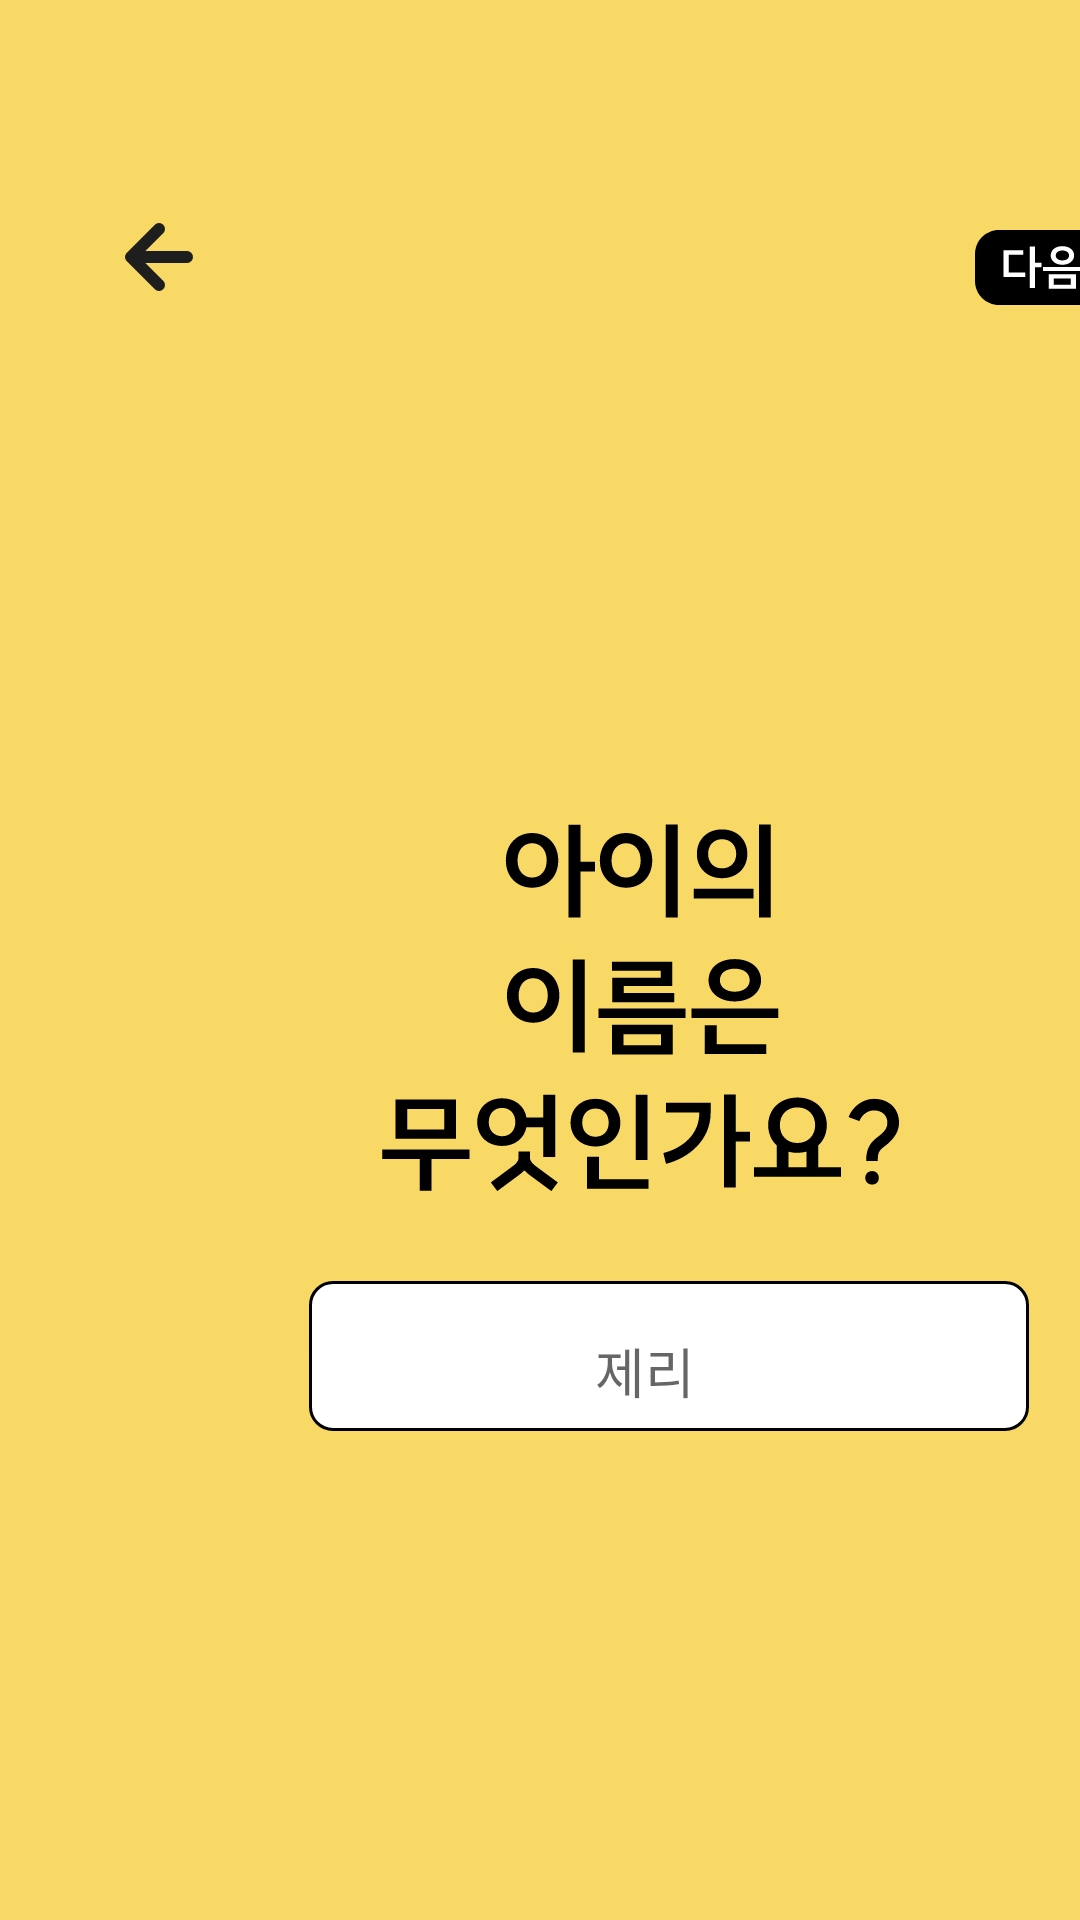

Locate icon controls on the screen. Image size 1080px×1920px, boxes as (x1, y1, x2, y2).
arrow left: (125, 223, 193, 291)
